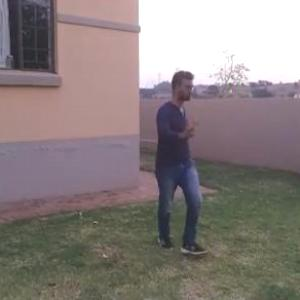takeoff-hand: (181, 111, 203, 141)
